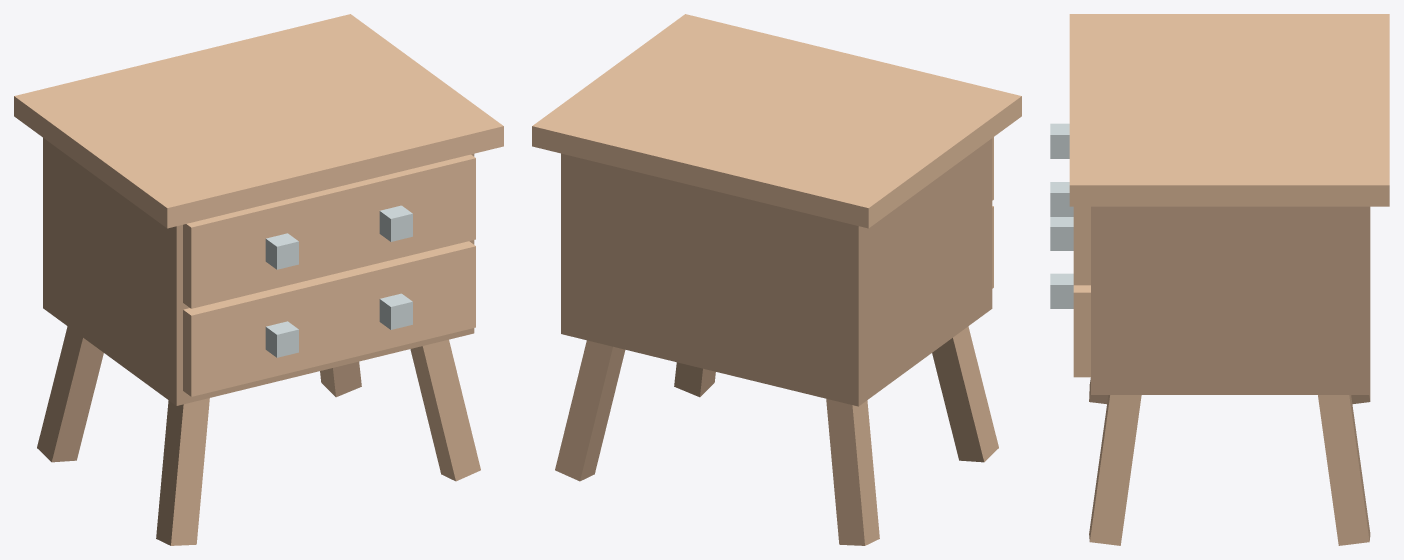
The model's file is bedsideMidCentury.glb.
The picture shows the model from 3 angles, left to right: view 1: azimuth 30°, elevation 25°; view 2: azimuth 150°, elevation 25°; view 3: azimuth 270°, elevation 25°; orthographic projection. The views are drawn at different scales.
Parts seen in each view (by area): view 1: bedsideMidCentury; view 2: bedsideMidCentury; view 3: bedsideMidCentury.
Part boxes in pixels (<box>): bedsideMidCentury: <box>14,14,503,545</box>; bedsideMidCentury: <box>532,14,1021,545</box>; bedsideMidCentury: <box>1050,14,1389,545</box>.
Bounding box in the file's own units: 0.26 × 0.2631 × 0.2175.
